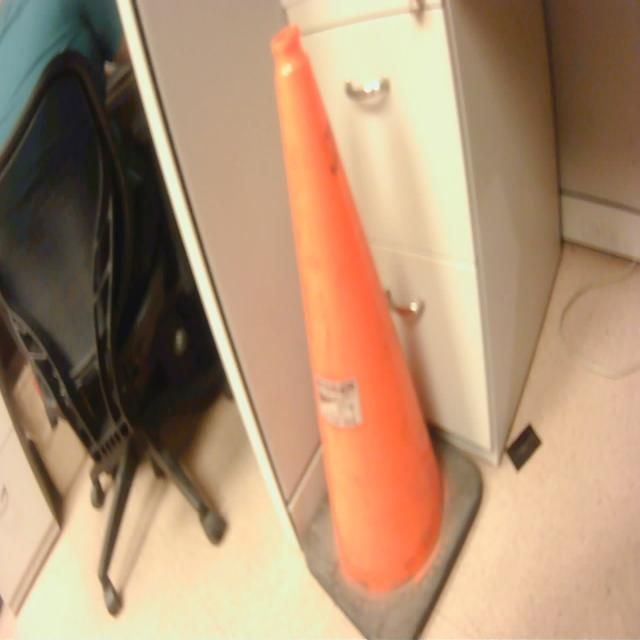traffic cone: (267, 16, 491, 640)
